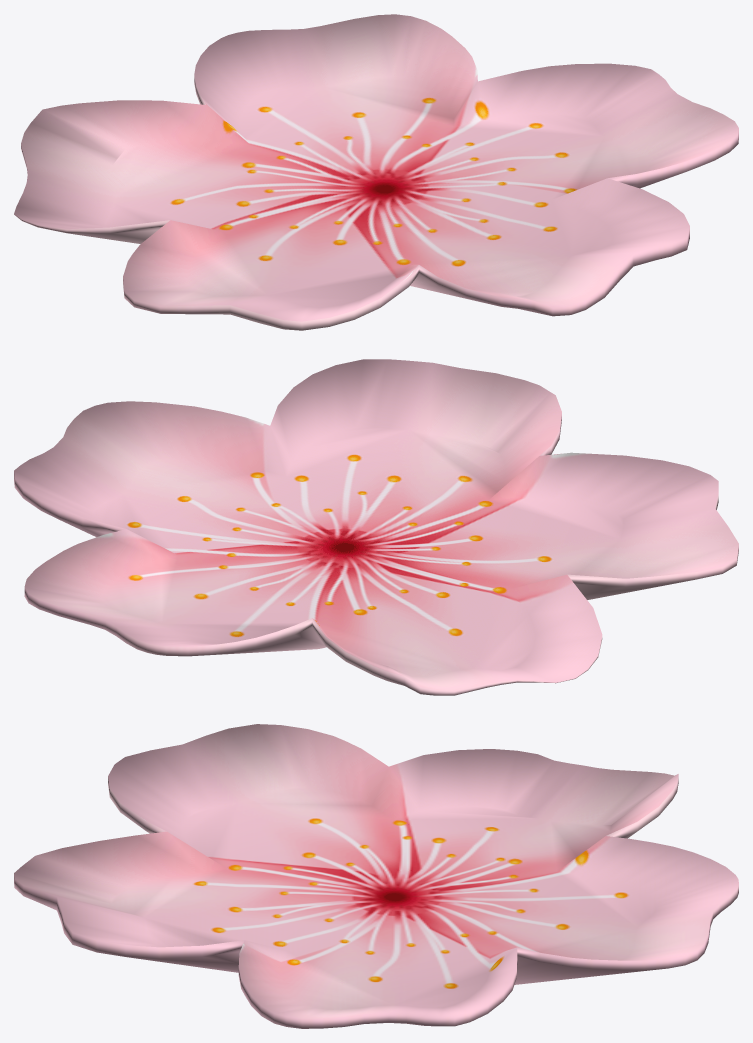
Rendered from Flor.obj.
The picture shows the model from 3 angles, top to bottom: view 1: azimuth 30°, elevation 25°; view 2: azimuth 150°, elevation 25°; view 3: azimuth 270°, elevation 25°; orthographic projection.
Parts seen in each view (by area): view 1: Circle.004; view 2: Circle.004; view 3: Circle.004.
Boxes of the visible parts, x1,y1,x2,y2 form: Circle.004: (14, 14, 738, 330); Circle.004: (14, 359, 738, 695); Circle.004: (14, 724, 738, 1028).
Size of the model in its own units: 0.0521 by 0.00992 by 0.0522.
Materials: 1 (1 with a texture image).
